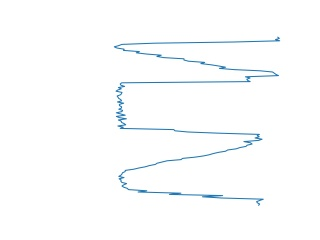distributaryChannelFill: (114, 73, 266, 144)
mouthBar: (112, 32, 282, 79)
underwaterDistributaryChannel: (115, 137, 266, 208)
